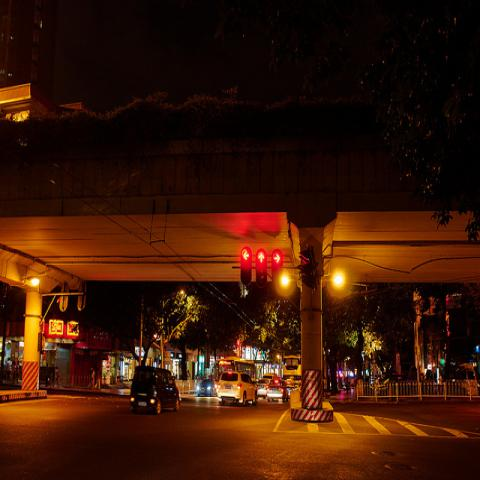car: (130, 366, 181, 416), (216, 369, 258, 408), (267, 380, 287, 399), (197, 379, 215, 397), (257, 379, 270, 400), (286, 383, 296, 398)
